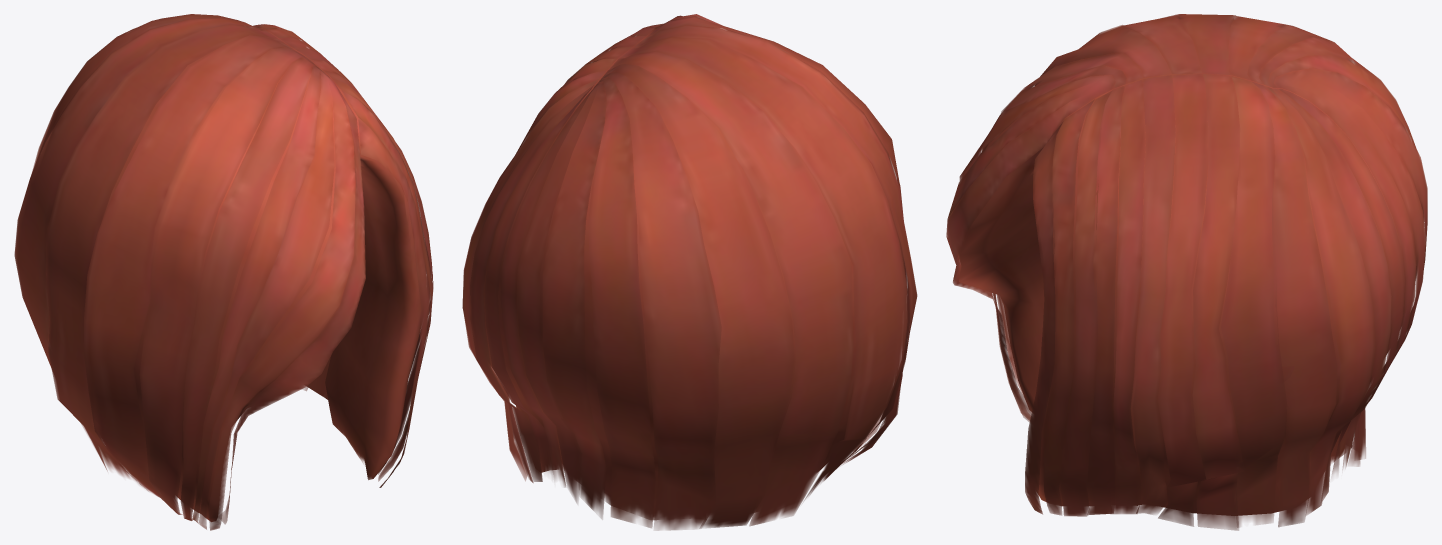
File: hair_bob_red.glb
3 views of the same model, side by side, from view 1: azimuth 30°, elevation 25°; view 2: azimuth 150°, elevation 25°; view 3: azimuth 270°, elevation 25° (orthographic). The views are drawn at different scales.
Parts seen in each view (by area): view 1: hair_bob_red; view 2: hair_bob_red; view 3: hair_bob_red.
Part boxes in pixels (box(x1,y1,x2,y2)): hair_bob_red: box(14, 14, 433, 530); hair_bob_red: box(462, 14, 917, 530); hair_bob_red: box(946, 14, 1427, 530).
Bounding box in the file's own units: 0.2013 × 0.2336 × 0.2262.
1 material, 1 textured.
